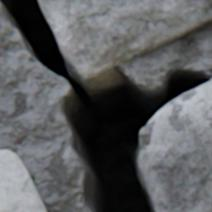brick: (42, 0, 211, 78), (145, 81, 211, 211), (0, 151, 47, 211)
crack: (0, 0, 211, 211)
